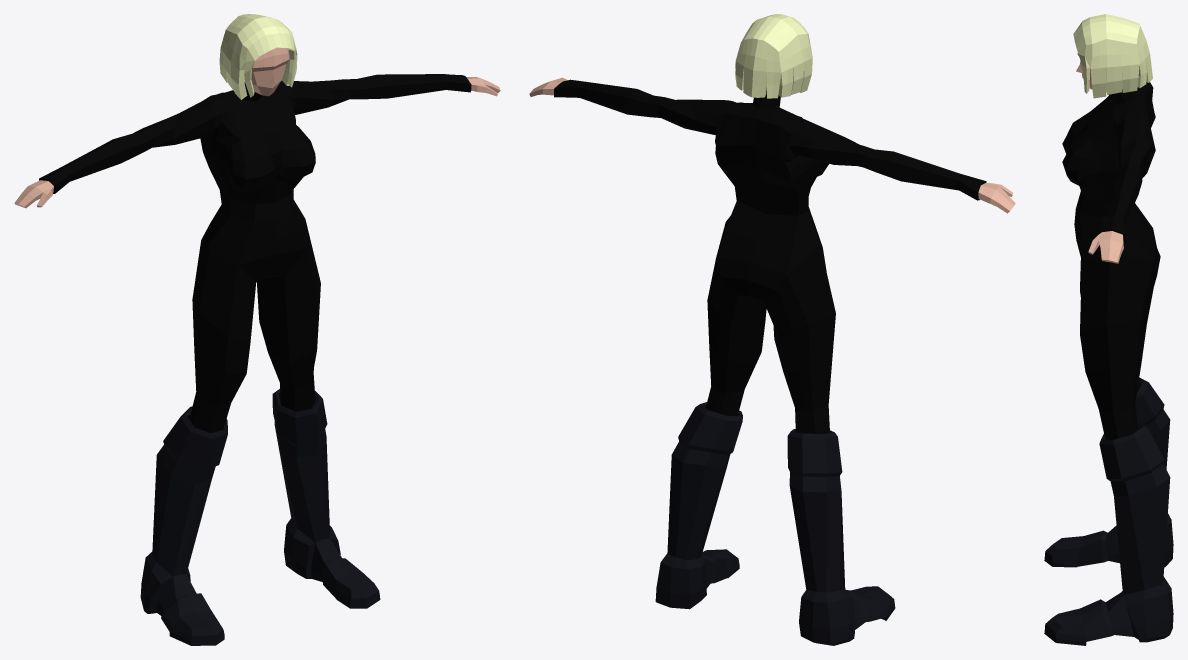
The model's file is character_bodyless.obj.
3 views of the same model, side by side, from view 1: azimuth 30°, elevation 25°; view 2: azimuth 150°, elevation 25°; view 3: azimuth 270°, elevation 25° (orthographic).
Parts seen in each view (by area): view 1: clothing, steel_boots, hair, body; view 2: clothing, steel_boots, hair, body; view 3: clothing, steel_boots, hair, body.
Part boxes in pixels (left/top/right/bottom): clothing: left=39, top=74, right=471, bottom=433; steel_boots: left=140, top=389, right=380, bottom=645; hair: left=219, top=14, right=297, bottom=99; body: left=14, top=47, right=500, bottom=208; clothing: left=554, top=79, right=986, bottom=433; steel_boots: left=655, top=402, right=895, bottom=645; hair: left=735, top=14, right=812, bottom=98; body: left=529, top=77, right=1015, bottom=213; clothing: left=1062, top=82, right=1160, bottom=439; steel_boots: left=1044, top=377, right=1173, bottom=645; hair: left=1073, top=14, right=1152, bottom=98; body: left=1076, top=53, right=1123, bottom=263.
Size of the model in its own units: 2.48 by 2.89 by 0.5833.
Materials: 4 (4 with a texture image).
